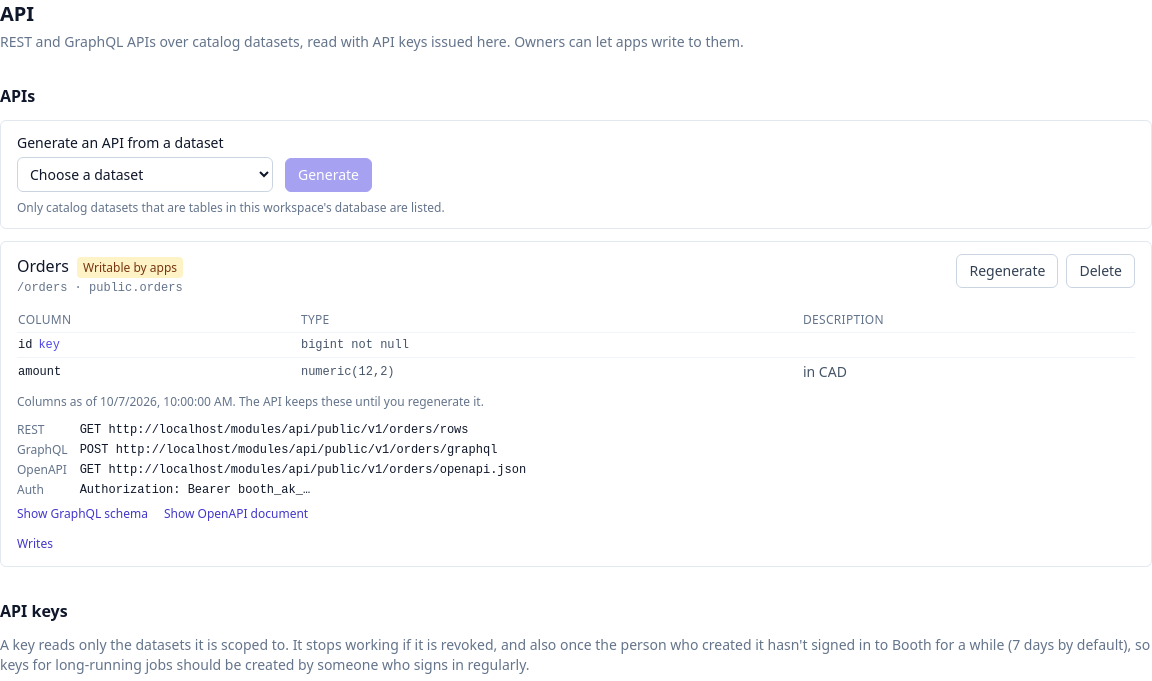
Test: ApiApp › writes (ADR 0117) › lets an owner grant an app, narrowing its actions and columns
Click the button "Writes".
click(35, 544)  # box [17,536,53,552]
(page scrolled)
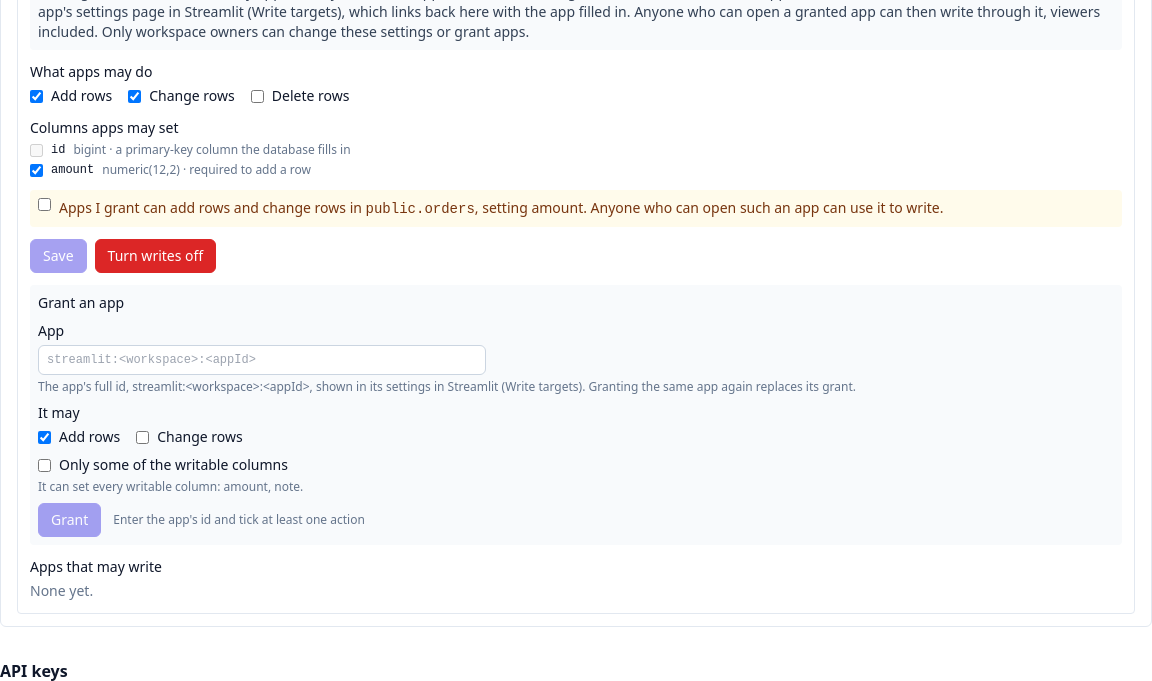
Result: the button "Grant" is disabled at [38,503,101,537]
Type "streamlit:acme:budget" into the field labelled "App".
click(262, 360); type("streamlit:acme:budget")  # box [38,345,486,375]
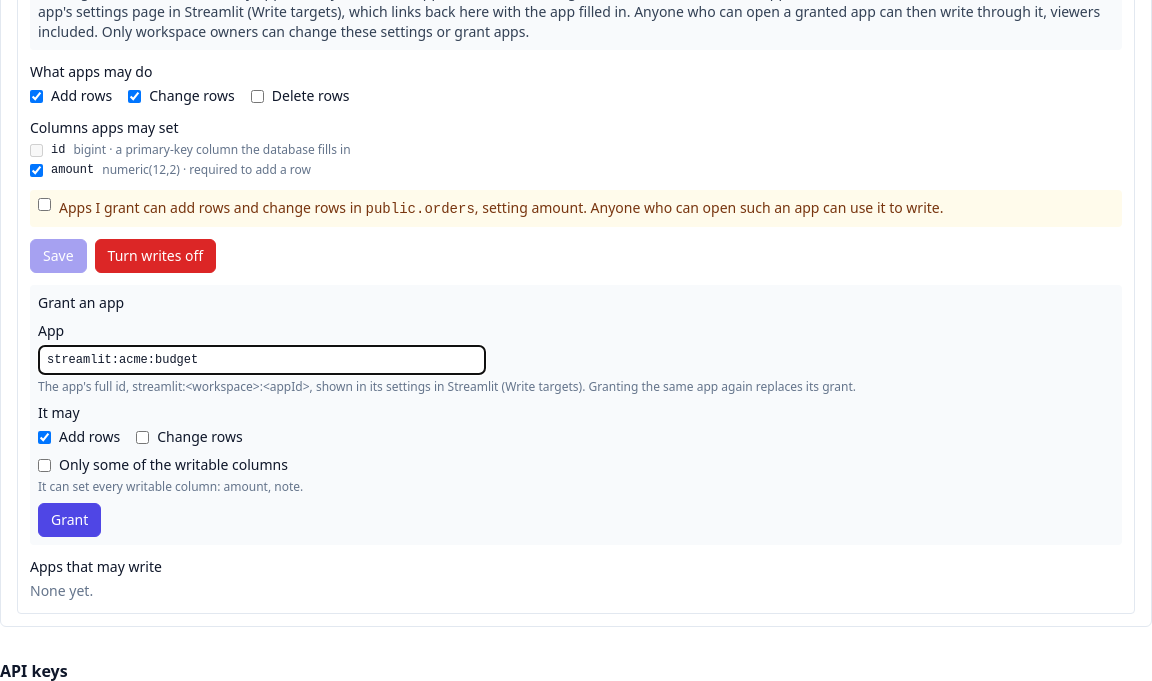
Click the checkbox labelled "Change rows" below "It may".
click(143, 437)  # box [136,430,149,444]
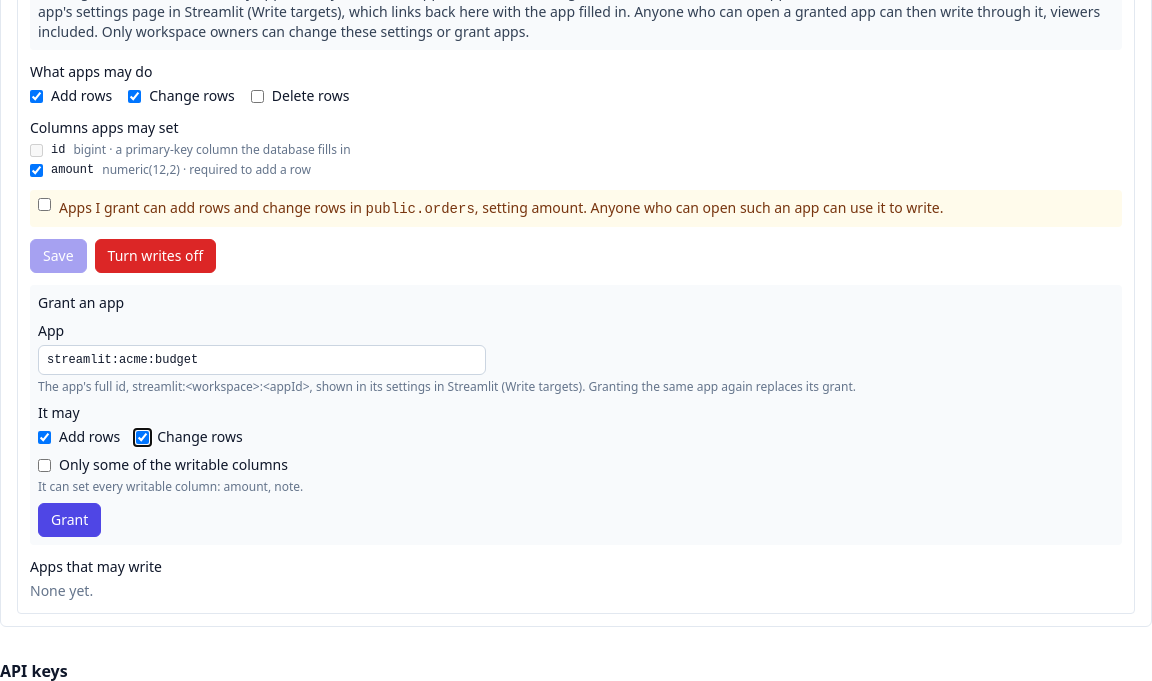
Click the checkbox labelled "Only some of the writable columns".
click(44, 465)  # box [38,458,51,472]
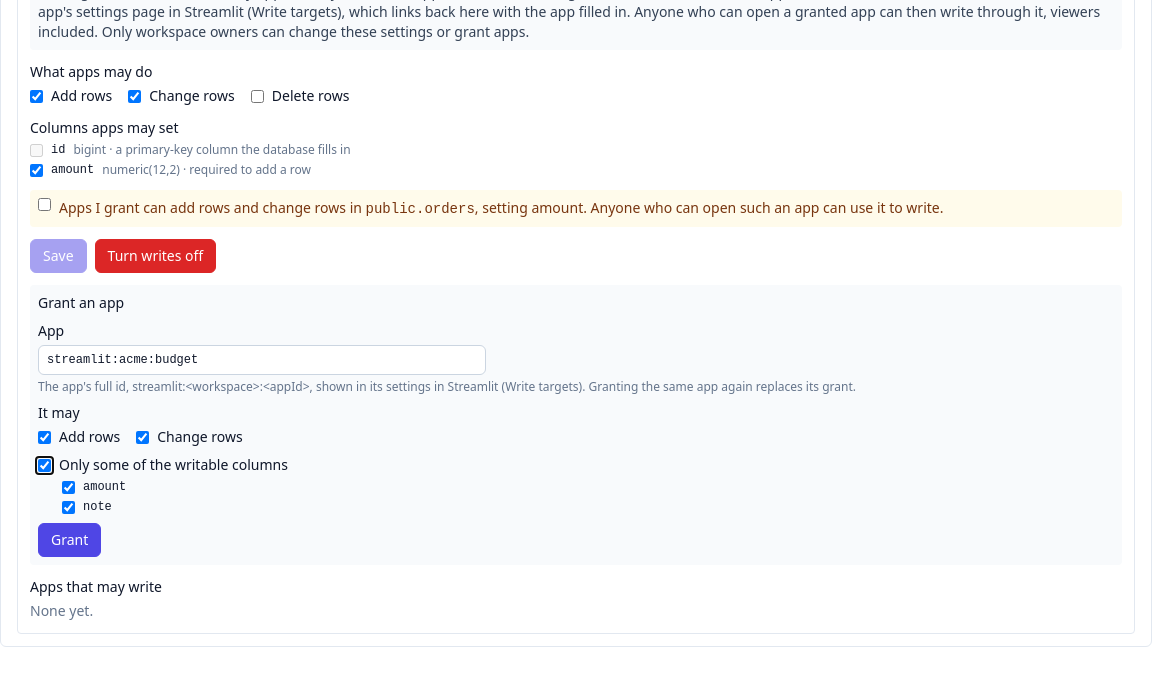
Click the checkbox labelled "note".
click(68, 507)  # box [62,500,75,514]
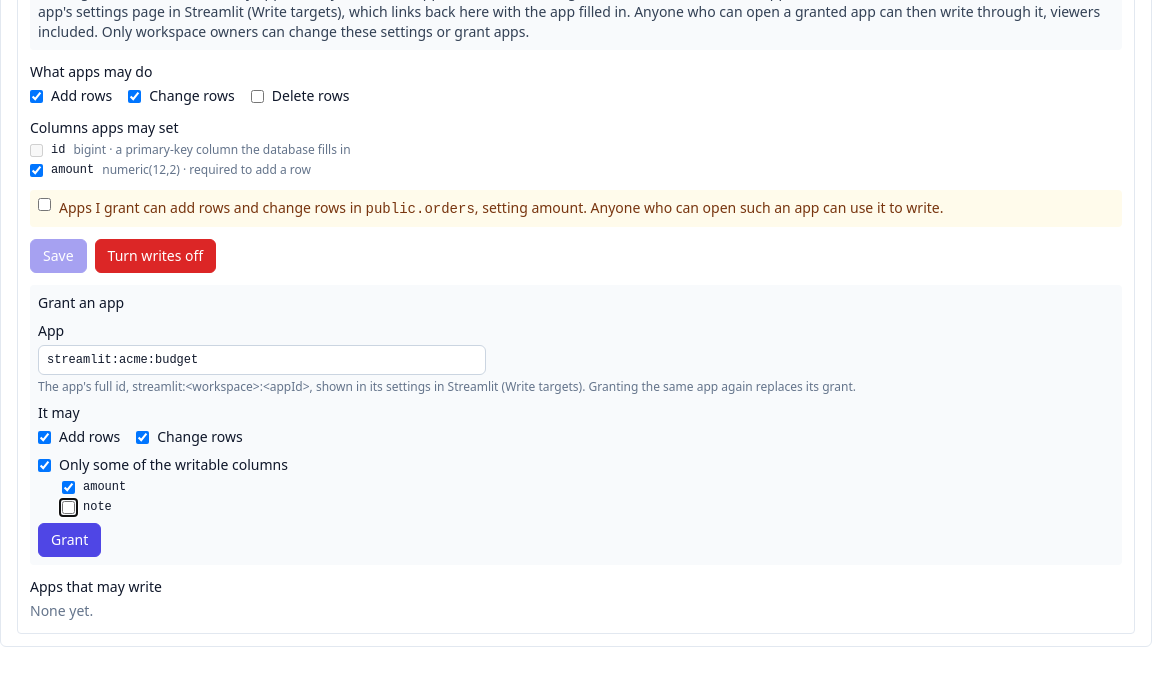
Click the button "Grant".
click(70, 540)  # box [38,523,101,557]
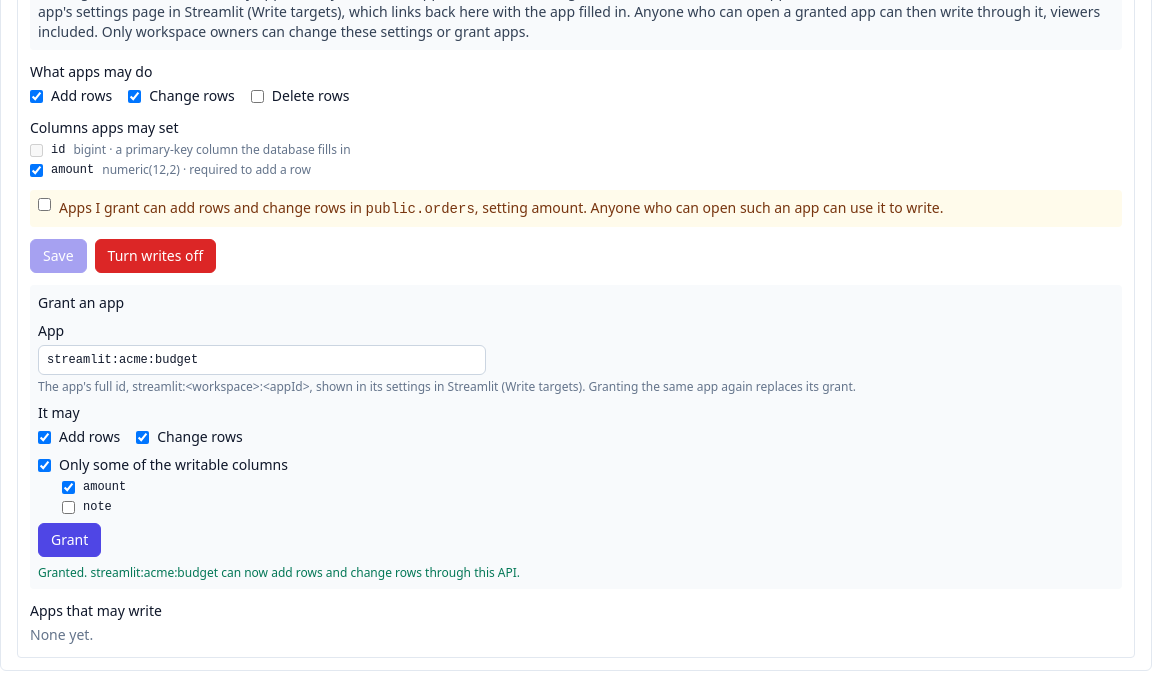
Result: the text "Granted. streamlit:acme:budget can now add rows and change rows" is shown at [38,564,520,581]
